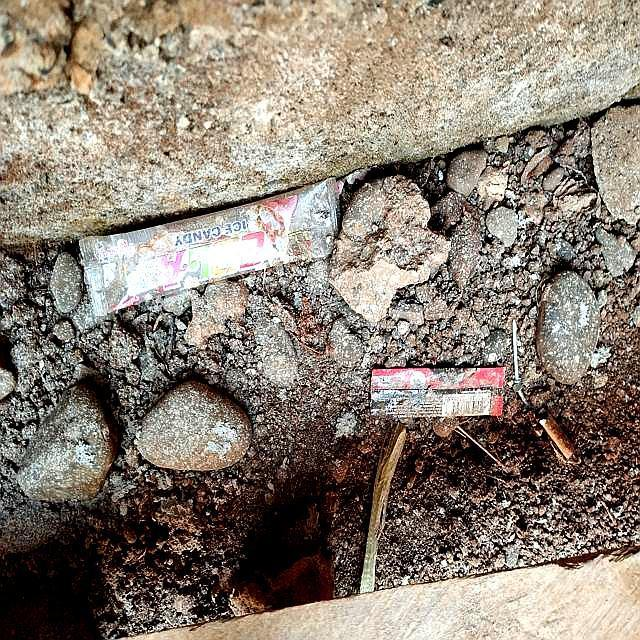Non-biodegradable: (77, 175, 342, 320), (371, 368, 509, 420)
